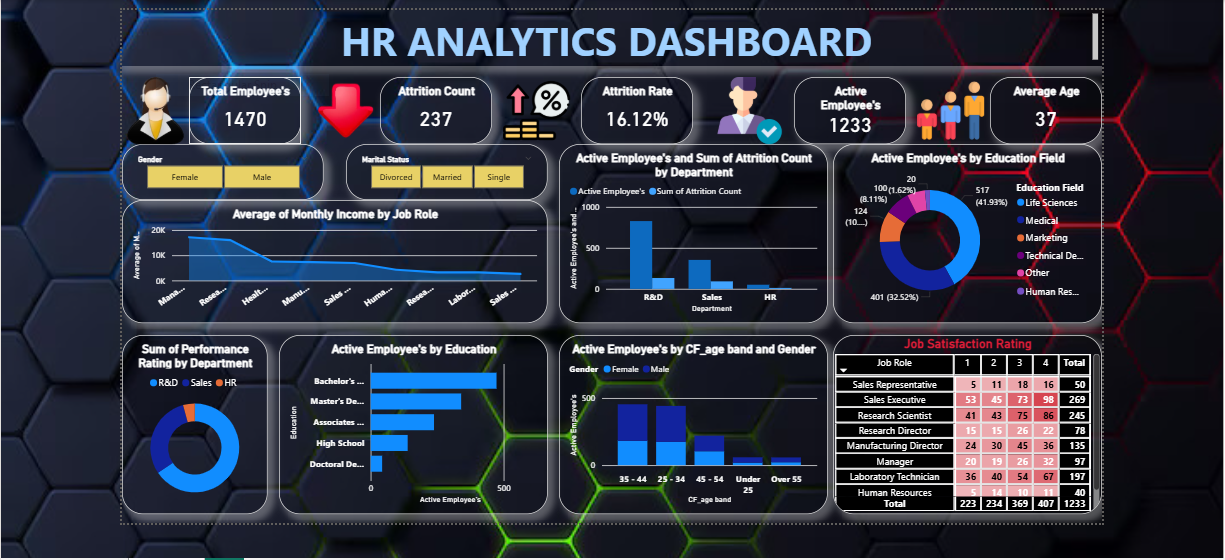

The page's visual inventory and layout, read from the dashboard file:
{"tool":"powerbi","page":{"name":"Page 1","canvas":[1400,733],"ordinal":0},"visuals":[{"type":"card","title":"Total Employee''s","fields":{"Values":["Sum(HR data.Employee Count)"]},"box":[96,96,160,96],"z":0},{"type":"clusteredColumnChart","fields":{"Category":["HR data.Department"],"Y":["HR data.Active Employee's","Sum(HR data.Attrition Count)"]},"box":[624,192,384,256],"z":0},{"type":"card","title":"Attrition Count","fields":{"Values":["Sum(HR data.Attrition Count)"]},"box":[368,96,160,96],"z":1000},{"type":"donutChart","fields":{"Y":["HR data.Active Employee's"],"Category":["HR data.Education Field"]},"box":[1016,192,384,256],"z":1000},{"type":"card","title":"Attrition Rate","fields":{"Values":["HR data.Attrition Rate"]},"box":[656,96,160,96],"z":2000},{"type":"columnChart","fields":{"Y":["HR data.Active Employee's"],"Category":["HR data.CF_age band"],"Series":["HR data.Gender"]},"box":[624,464,384,256],"z":2000},{"type":"card","title":"Average Age","fields":{"Values":["Avg(HR data.Age)"]},"box":[1240,96,160,96],"z":3000},{"type":"pivotTable","title":"Job Satisfaction Rating","fields":{"Rows":["HR data.Job Role"],"Columns":["HR data.Job Satisfaction"],"Values":["HR data.Active Employee's"]},"box":[1016,464,384,256],"z":3000},{"type":"card","title":"Active Employee''s","fields":{"Values":["HR data.Active Employee's"]},"box":[960,96,160,96],"z":4000},{"type":"donutChart","fields":{"Y":["Sum(HR data.Performance Rating)"],"Category":["HR data.Department"]},"box":[0,464,208,256],"z":4000},{"type":"clusteredBarChart","fields":{"Category":["HR data.Education"],"Y":["HR data.Active Employee's"]},"box":[224,464,384,256],"z":5000},{"type":"areaChart","fields":{"Category":["HR data.Job Role"],"Y":["Avg(HR data.Monthly Income)"]},"box":[0,272,608,176],"z":6000},{"type":"slicer","fields":{"Values":["HR data.Gender"]},"box":[0,192,288,80],"z":7000},{"type":"slicer","fields":{"Values":["HR data.Marital Status"]},"box":[320,192,288,80],"z":8000},{"type":"image","box":[272,96,96,96],"z":10000},{"type":"image","box":[544,96,96,96],"z":11000},{"type":"image","box":[0,96,96,96],"z":12000},{"type":"image","box":[848,96,96,96],"z":13000},{"type":"image","box":[1136,96,96,96],"z":14000},{"type":"textbox","box":[-8,0,1408,80],"z":14001}]}

Visuals, with their boxes on the page's 1400x733 design canvas (x1, y1, x2, y2). These are canvas units, not pixel positions in the 1225x560 screenshot, which may show the page scaled, cropped or inside an application window:
"Total Employee''s" card: box=[96, 96, 256, 192]
clusteredColumnChart - HR data.Department x HR data.Active Employee's: box=[624, 192, 1008, 448]
"Attrition Count" card: box=[368, 96, 528, 192]
donutChart - HR data.Active Employee's x HR data.Education Field: box=[1016, 192, 1400, 448]
"Attrition Rate" card: box=[656, 96, 816, 192]
columnChart - HR data.Active Employee's x HR data.CF_age band: box=[624, 464, 1008, 720]
"Average Age" card: box=[1240, 96, 1400, 192]
"Job Satisfaction Rating" pivotTable: box=[1016, 464, 1400, 720]
"Active Employee''s" card: box=[960, 96, 1120, 192]
donutChart - Sum(HR data.Performance Rating) x HR data.Department: box=[0, 464, 208, 720]
clusteredBarChart - HR data.Education x HR data.Active Employee's: box=[224, 464, 608, 720]
areaChart - HR data.Job Role x Avg(HR data.Monthly Income): box=[0, 272, 608, 448]
slicer - HR data.Gender: box=[0, 192, 288, 272]
slicer - HR data.Marital Status: box=[320, 192, 608, 272]
image: box=[272, 96, 368, 192]
image: box=[544, 96, 640, 192]
image: box=[0, 96, 96, 192]
image: box=[848, 96, 944, 192]
image: box=[1136, 96, 1232, 192]
textbox: box=[-8, 0, 1400, 80]
